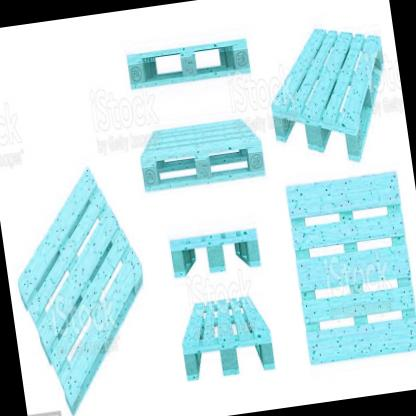BoxFace: (14, 164, 144, 416), (284, 171, 416, 368), (271, 24, 384, 159), (139, 116, 269, 196), (181, 291, 275, 386), (125, 34, 252, 94), (167, 225, 262, 278)
